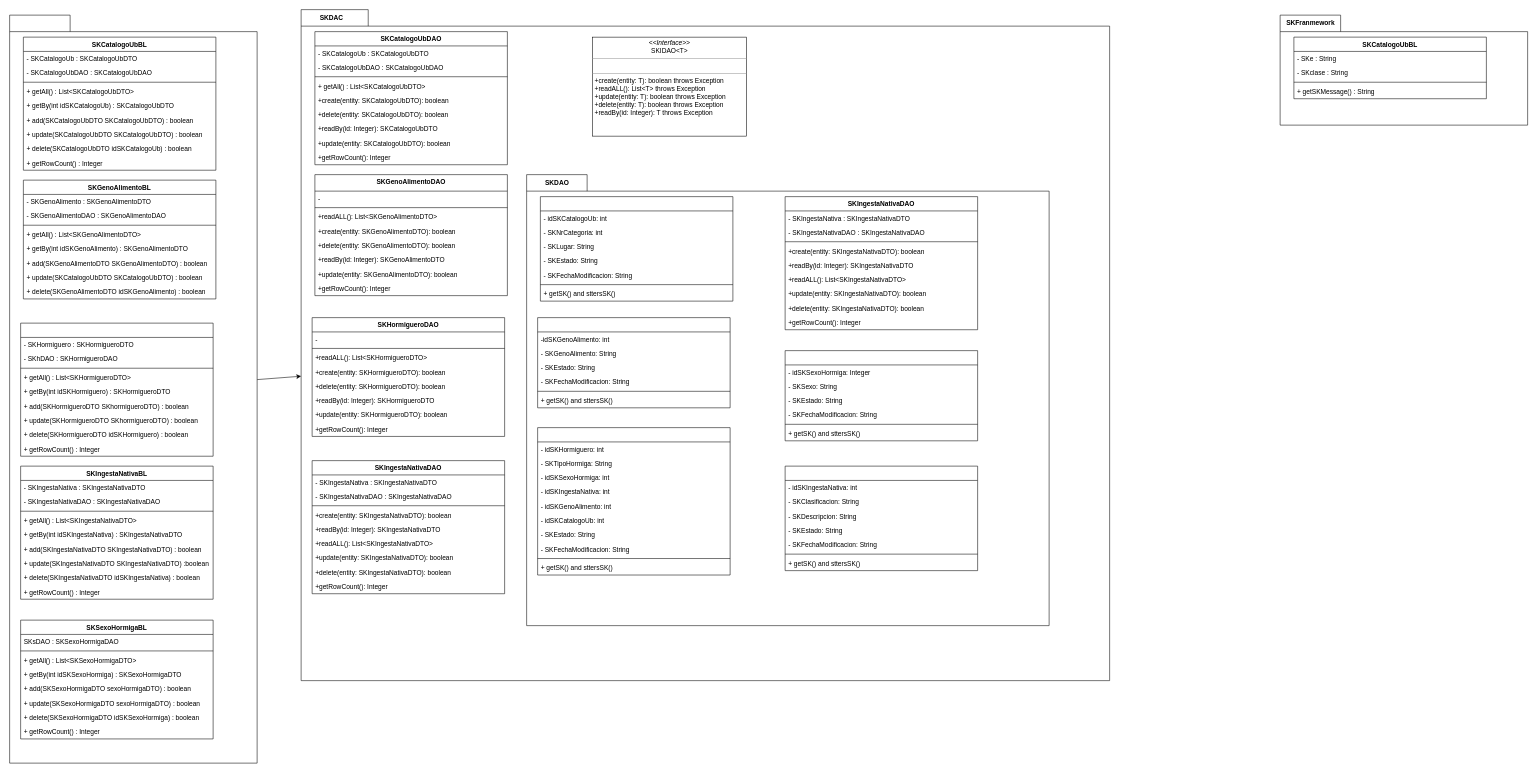
Some shapes in this 1537 by 773 pixel diagram are drawn without their labels. The shapes that lost their labels are listed below. From the top down, each one's box as (x1, y1, x2, y2) in pixels, then its label:
(540, 196, 733, 301): SKCatalogoUbDTO
(537, 317, 730, 408): SKGenoAlimentoDTO
(20, 323, 213, 456): SKHormigueroBL
(9, 15, 257, 763): SKBusiness
(785, 350, 978, 441): SKSexoHormigaDTO
(537, 427, 730, 575): SKHormigueroDTO
(785, 466, 978, 571): SKIngestaNativaDTO
